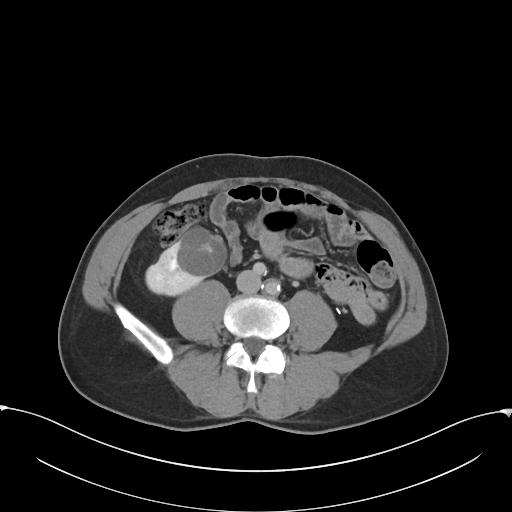Lesion: (178, 225, 228, 279)
